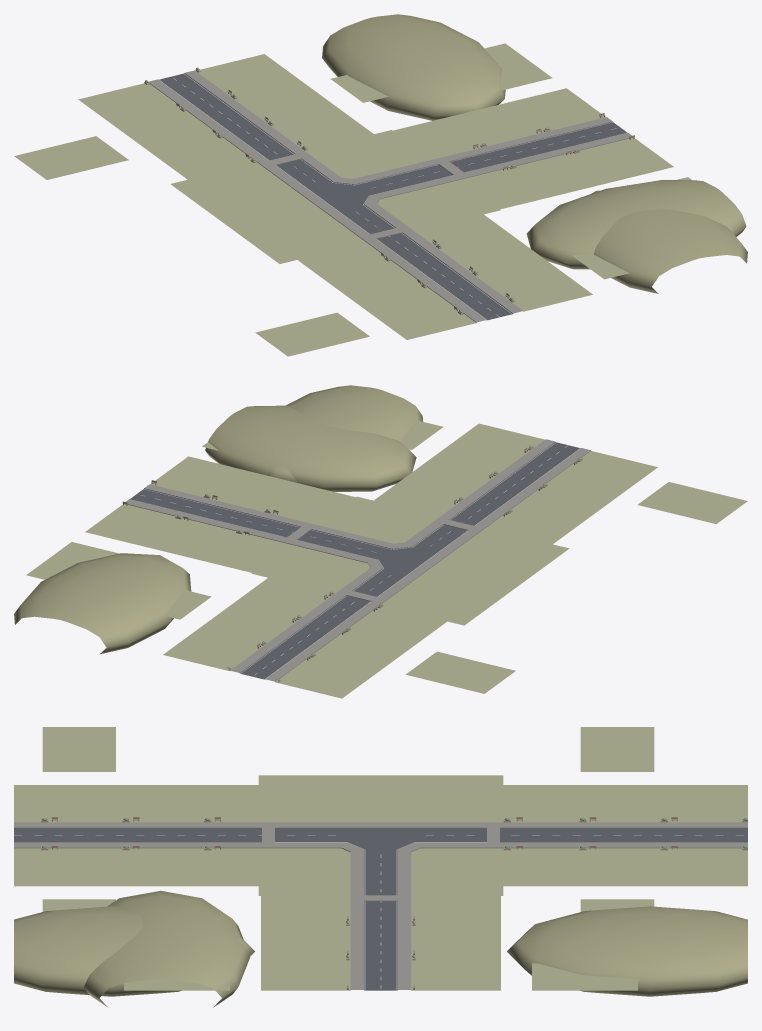
3 renders of one model, top to bottom at view 1: azimuth 30°, elevation 25°; view 2: azimuth 150°, elevation 25°; view 3: azimuth 270°, elevation 25°, orthographic. The views are drawn at different scales.
Parts seen in each view (by area): view 1: static; view 2: static; view 3: static.
Part boxes in pixels (box(x1,y1,x2,y2)): static: box(14, 14, 747, 356); static: box(14, 385, 747, 698); static: box(14, 727, 747, 1007).
Size of what is drawn, in the model's own units: 153 by 14.08 by 180.
